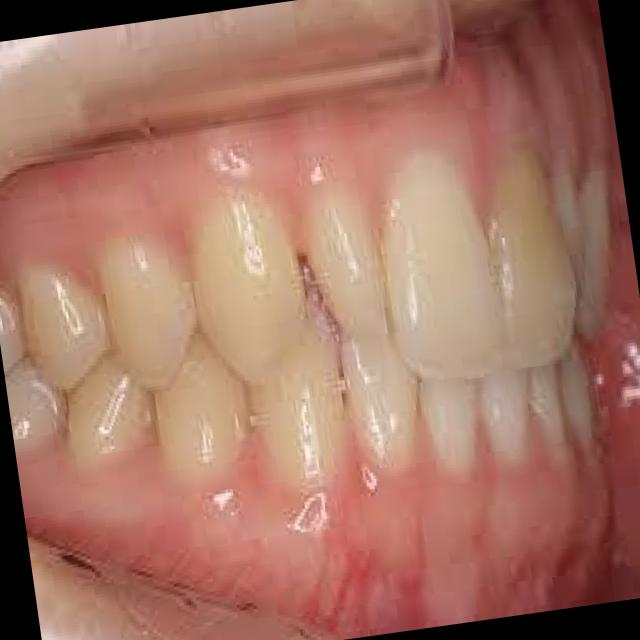Tooth: (384, 152, 505, 378), (189, 194, 309, 386), (493, 152, 577, 368), (251, 314, 347, 487), (101, 236, 197, 393), (305, 183, 392, 348), (155, 330, 250, 480), (19, 256, 113, 391), (340, 323, 422, 473), (65, 353, 156, 467), (423, 371, 478, 480), (480, 363, 532, 470), (526, 363, 564, 450)
